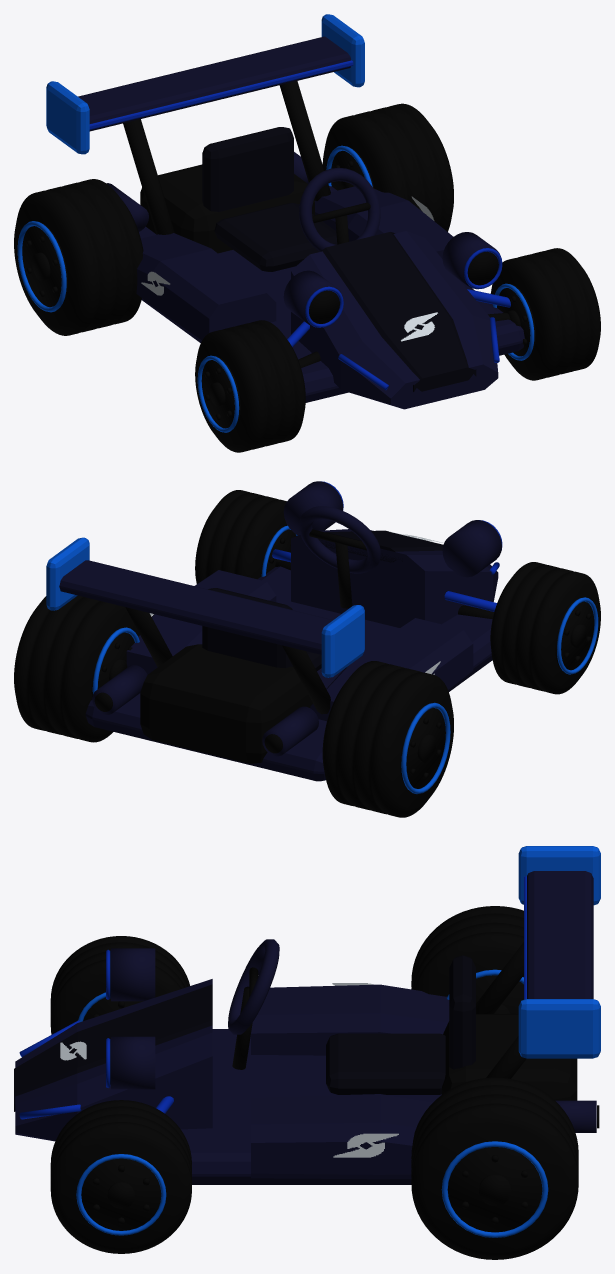
File: RetreeKart.glb
3 views of the same model, one above another, from view 1: azimuth 30°, elevation 25°; view 2: azimuth 150°, elevation 25°; view 3: azimuth 270°, elevation 25° (orthographic). The views are drawn at different scales.
Parts seen in each view (by area): view 1: CHASSIS, WHEEL_RL, WHEEL_FL, WHEEL_FR, WHEEL_RR; view 2: CHASSIS, WHEEL_RL, WHEEL_RR, WHEEL_FL, WHEEL_FR; view 3: CHASSIS, WHEEL_RR, WHEEL_FR, WHEEL_RL, WHEEL_FL.
Boxes of the visible parts, x1=… form: CHASSIS: x1=46, y1=14, x2=524, y2=409; WHEEL_RL: x1=14, y1=179, x2=143, y2=335; WHEEL_FL: x1=195, y1=320, x2=305, y2=452; WHEEL_FR: x1=490, y1=248, x2=600, y2=380; WHEEL_RR: x1=322, y1=103, x2=453, y2=231; CHASSIS: x1=46, y1=481, x2=502, y2=781; WHEEL_RL: x1=322, y1=661, x2=453, y2=817; WHEEL_RR: x1=14, y1=595, x2=139, y2=742; WHEEL_FL: x1=490, y1=562, x2=600, y2=694; WHEEL_FR: x1=195, y1=490, x2=297, y2=583; CHASSIS: x1=14, y1=846, x2=600, y2=1184; WHEEL_RR: x1=411, y1=1077, x2=578, y2=1259; WHEEL_FR: x1=50, y1=1100, x2=191, y2=1253; WHEEL_RL: x1=411, y1=906, x2=523, y2=1013; WHEEL_FL: x1=50, y1=936, x2=189, y2=1034.
Bounding box in the file's own units: 1.74 × 0.8851 × 1.99.
